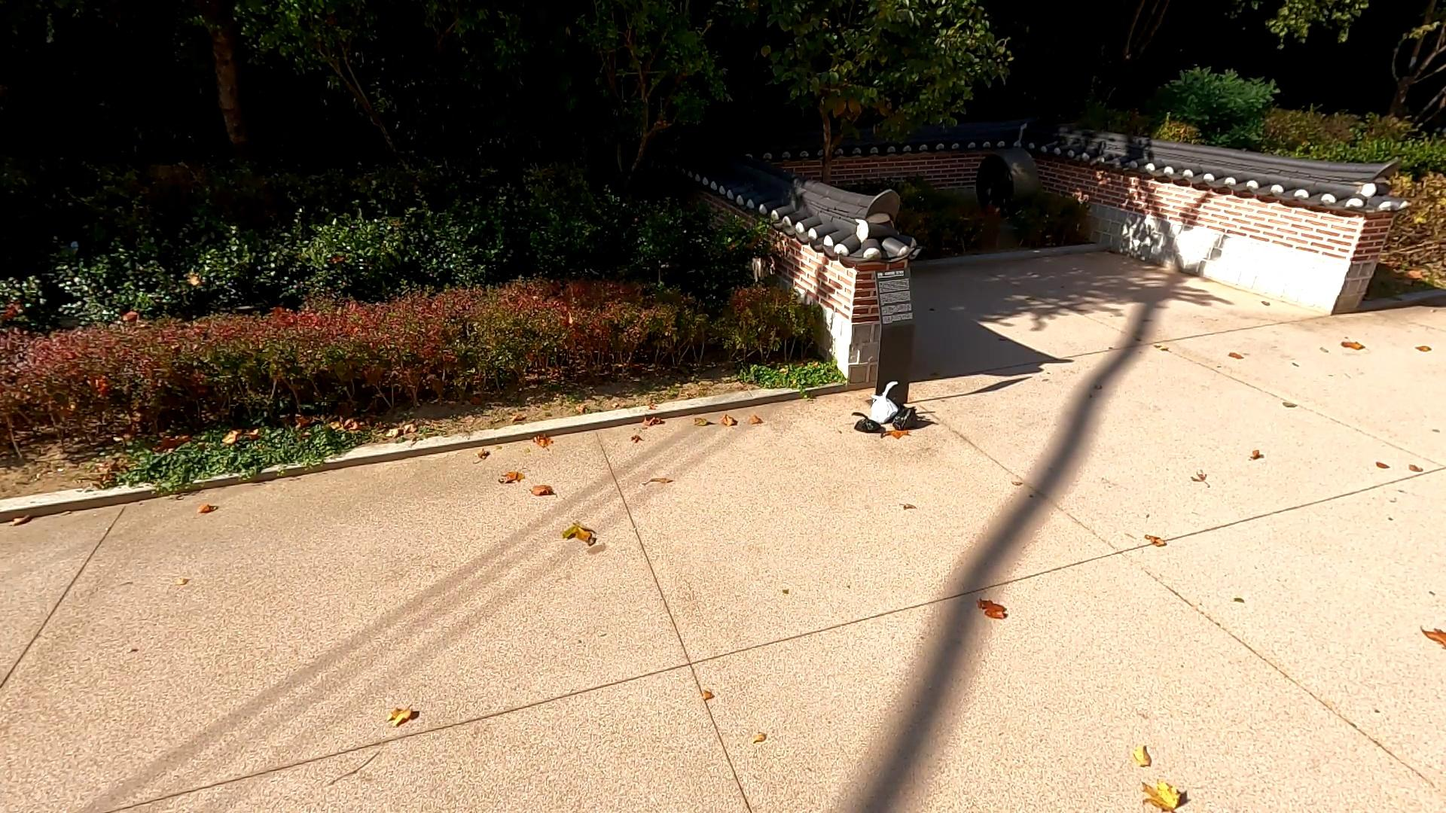trash: (867, 381, 899, 424), (887, 398, 918, 429), (851, 410, 888, 435)
